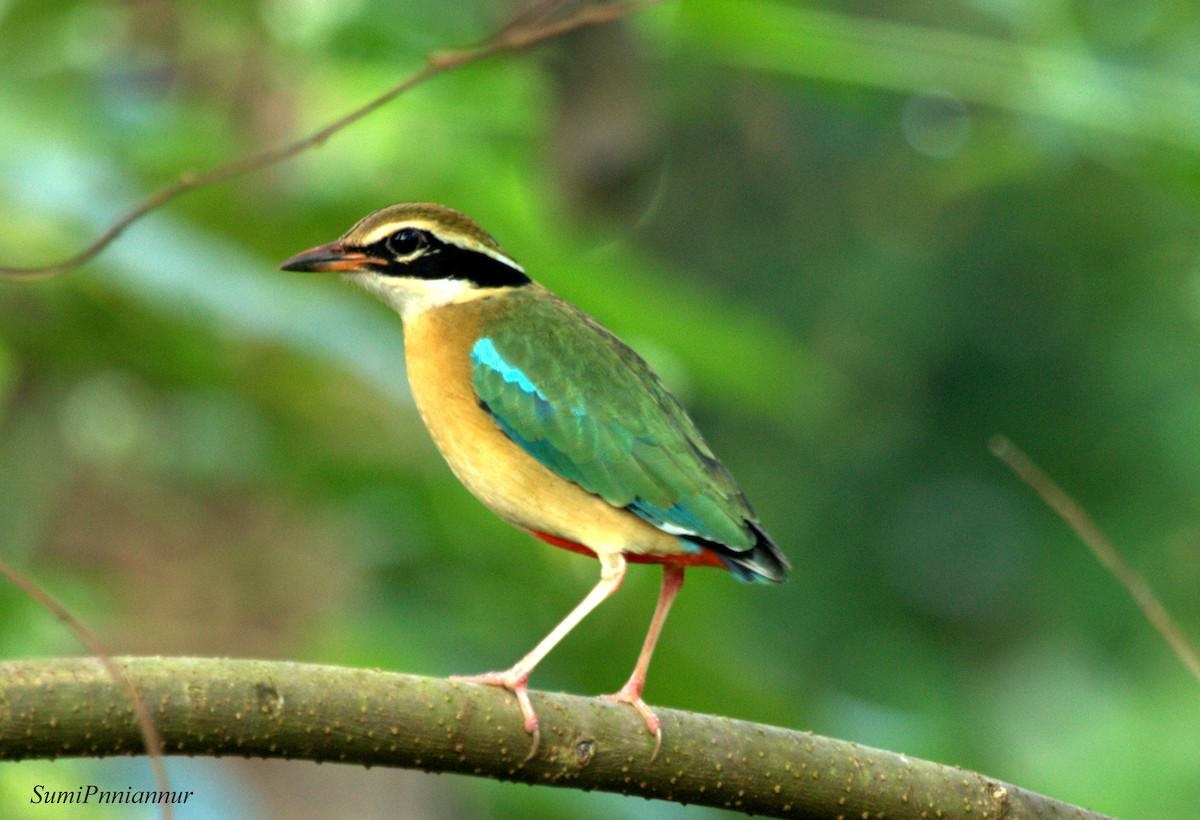pitta: (281, 180, 836, 641)
